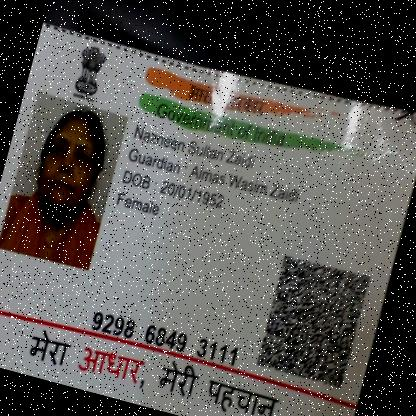aadhaar_card: (0, 14, 415, 415)
